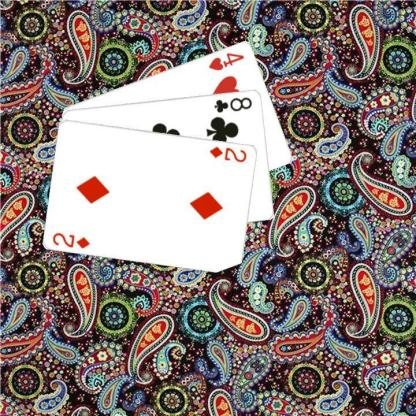2D: (51, 230, 92, 250), (208, 144, 249, 163)
4H: (206, 50, 246, 72)
8C: (211, 94, 254, 114)
